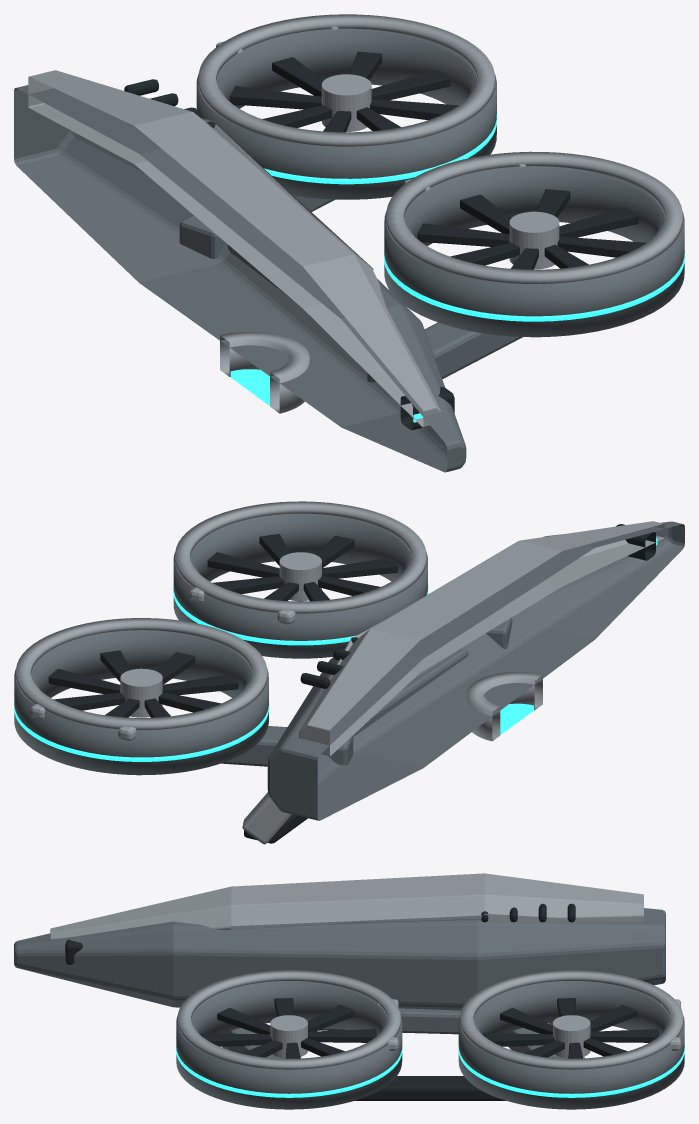
Rendered from engineer-proposal.glb.
3 renders of one model, top to bottom at view 1: azimuth 30°, elevation 25°; view 2: azimuth 150°, elevation 25°; view 3: azimuth 270°, elevation 25°, orthographic. The views are drawn at different scales.
Visible parts, largest first — view 1: Keel, Dorsal_Shell, Duct_0, Duct_1, Duct_Lip_1, Duct_Lip_0, Work_Aperture, Load_Boom_0, Rotor_Hub_0, Rotor_Hub_1, Duct_Link_0, Load_Boom_1 (+12 smaller); view 2: Keel, Duct_1, Dorsal_Shell, Duct_0, Duct_Lip_0, Duct_Lip_1, Work_Aperture, Load_Boom_1, Rotor_Hub_1, Rotor_Hub_0, Duct_Link_1, Landing_Strut.001 (+16 smaller); view 3: Keel, Dorsal_Shell, Duct_0, Duct_1, Duct_Lip_0, Duct_Lip_1, Skid, Tool_Rail, Rotor_Hub_1, Rotor_Hub_0, Duct_Link_0, Duct_Link_1 (+12 smaller).
Part boxes in pixels (x1,y1,x2,y2): Keel: [14, 85, 466, 472]; Dorsal_Shell: [28, 70, 440, 427]; Duct_0: [384, 166, 684, 337]; Duct_1: [196, 28, 496, 199]; Duct_Lip_1: [198, 14, 494, 146]; Duct_Lip_0: [386, 151, 682, 283]; Work_Aperture: [220, 332, 309, 413]; Load_Boom_0: [367, 322, 522, 382]; Rotor_Hub_0: [509, 211, 559, 269]; Rotor_Hub_1: [321, 74, 371, 131]; Duct_Link_0: [384, 250, 684, 321]; Load_Boom_1: [179, 196, 334, 258]; Keel: [267, 521, 684, 820]; Duct_1: [14, 630, 268, 775]; Dorsal_Shell: [299, 521, 664, 756]; Duct_0: [173, 513, 427, 658]; Duct_Lip_0: [175, 501, 426, 613]; Duct_Lip_1: [16, 618, 267, 729]; Work_Aperture: [467, 672, 542, 741]; Load_Boom_1: [221, 726, 353, 766]; Rotor_Hub_1: [120, 668, 162, 717]; Rotor_Hub_0: [279, 552, 321, 601]; Duct_Link_1: [14, 701, 269, 761]; Landing_Strut.001: [242, 792, 291, 844]; Keel: [14, 908, 665, 1010]; Dorsal_Shell: [50, 873, 643, 939]; Duct_0: [176, 981, 402, 1109]; Duct_1: [458, 981, 684, 1109]; Duct_Lip_0: [177, 970, 400, 1069]; Duct_Lip_1: [460, 970, 683, 1069]; Skid: [354, 1076, 506, 1100]; Tool_Rail: [319, 1008, 460, 1034]; Rotor_Hub_1: [553, 1015, 590, 1058]; Rotor_Hub_0: [270, 1015, 307, 1058]; Duct_Link_0: [176, 1044, 402, 1097]; Duct_Link_1: [458, 1045, 684, 1097].
Bounding box in the file's own units: 2.4 × 1.31 × 4.63.
